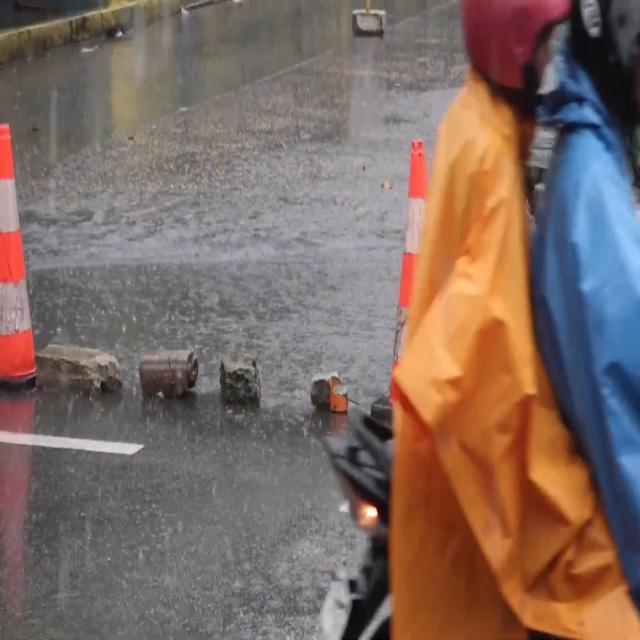half: (459, 0, 573, 94)
